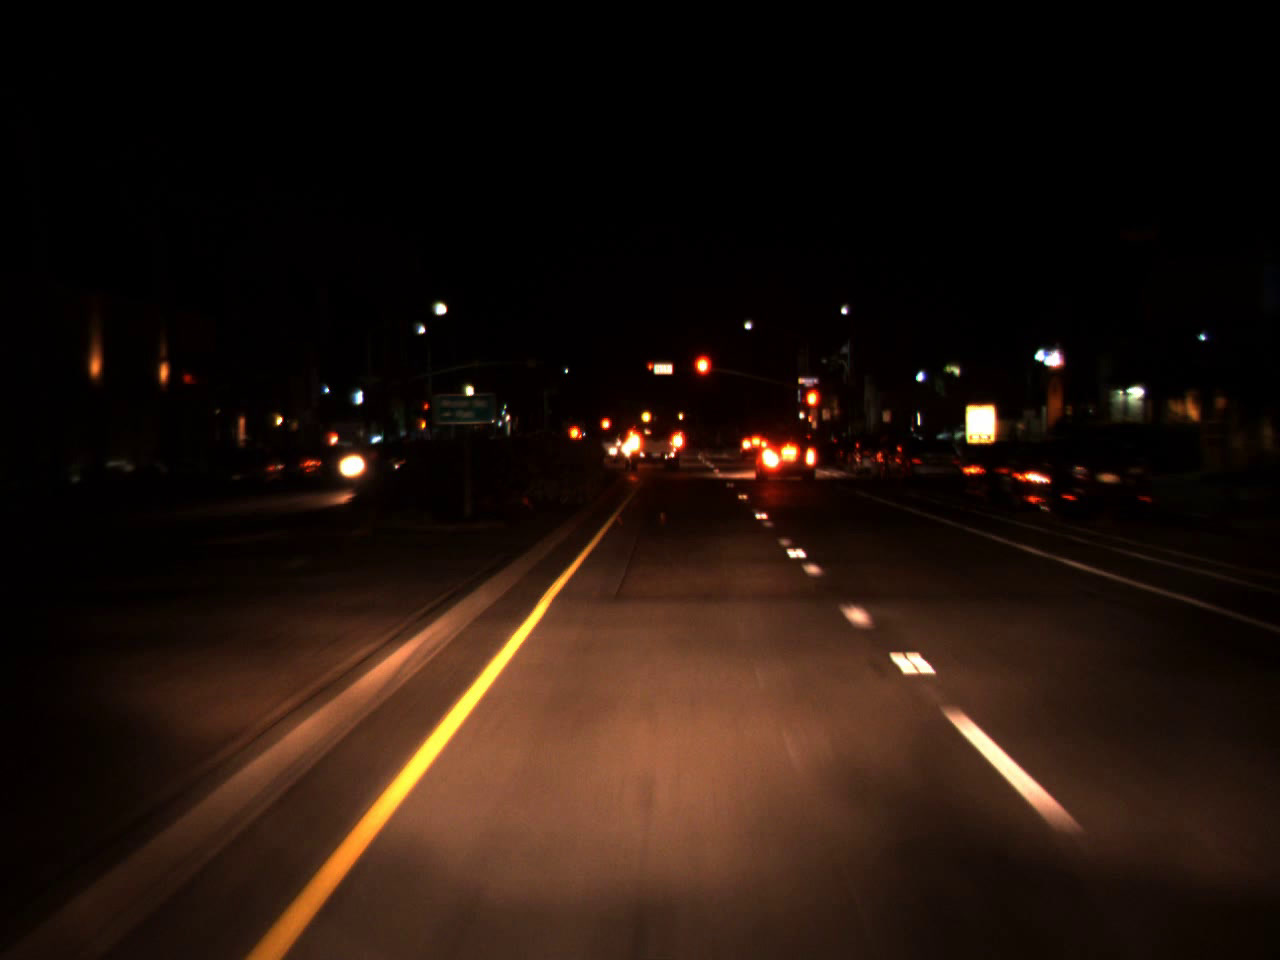stop: (691, 352, 713, 397), (803, 386, 821, 429), (646, 362, 655, 378), (423, 403, 429, 413)
